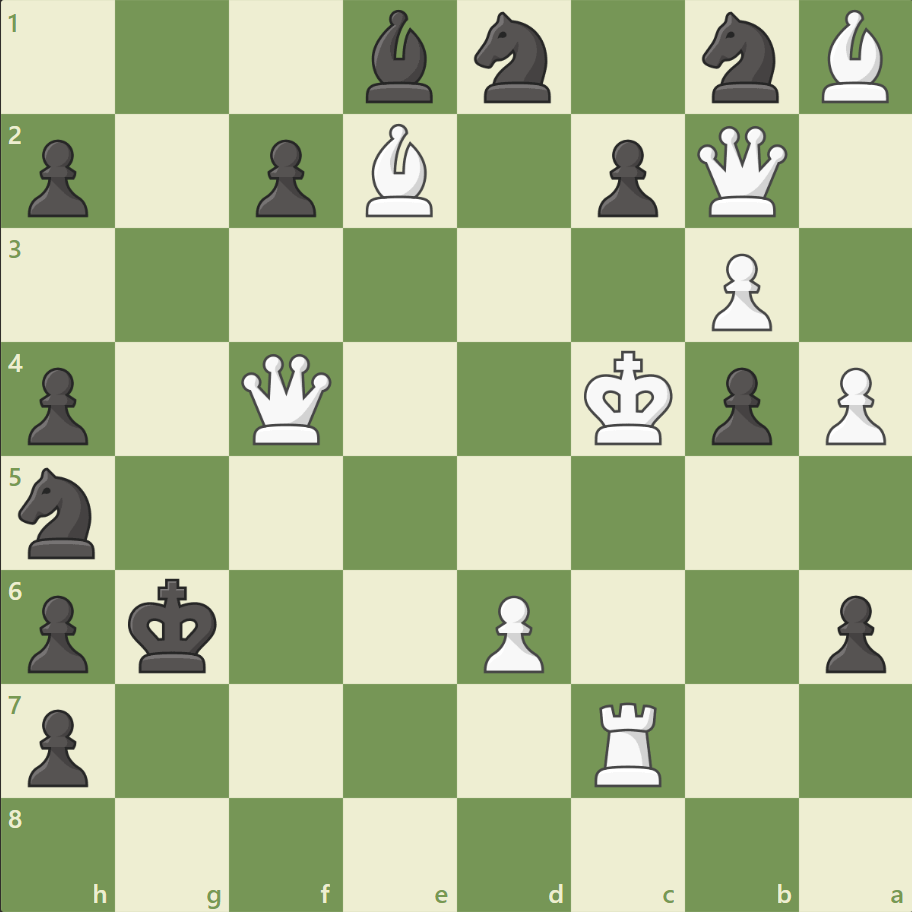B: (812, 6, 896, 109), (358, 120, 442, 222)
K: (579, 344, 679, 452)
P: (474, 586, 549, 677), (701, 246, 776, 337), (815, 359, 889, 450)
Q: (237, 349, 336, 449), (691, 122, 790, 222)
R: (587, 693, 670, 790)
b: (358, 6, 442, 109)
k: (124, 571, 224, 679)
n: (11, 461, 108, 564), (692, 7, 789, 110), (465, 7, 562, 110)
p: (20, 700, 95, 791), (20, 586, 95, 677), (701, 359, 776, 450), (20, 359, 95, 450), (247, 132, 322, 223), (20, 132, 95, 223), (815, 586, 889, 677), (588, 132, 662, 223)
